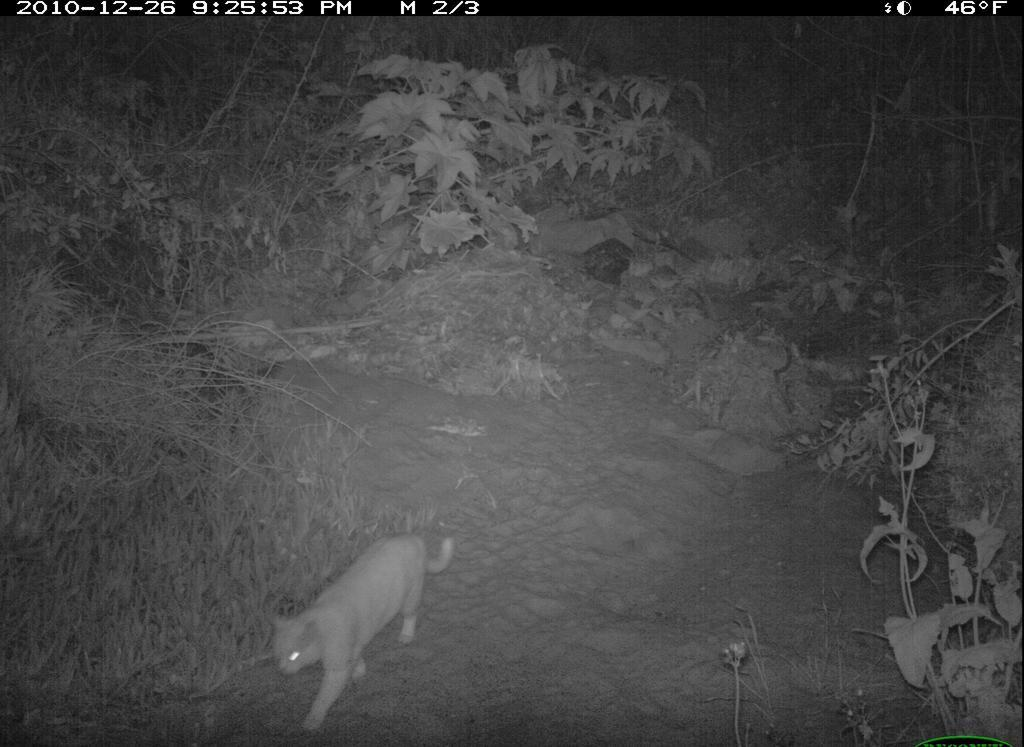cat: (265, 528, 466, 731)
